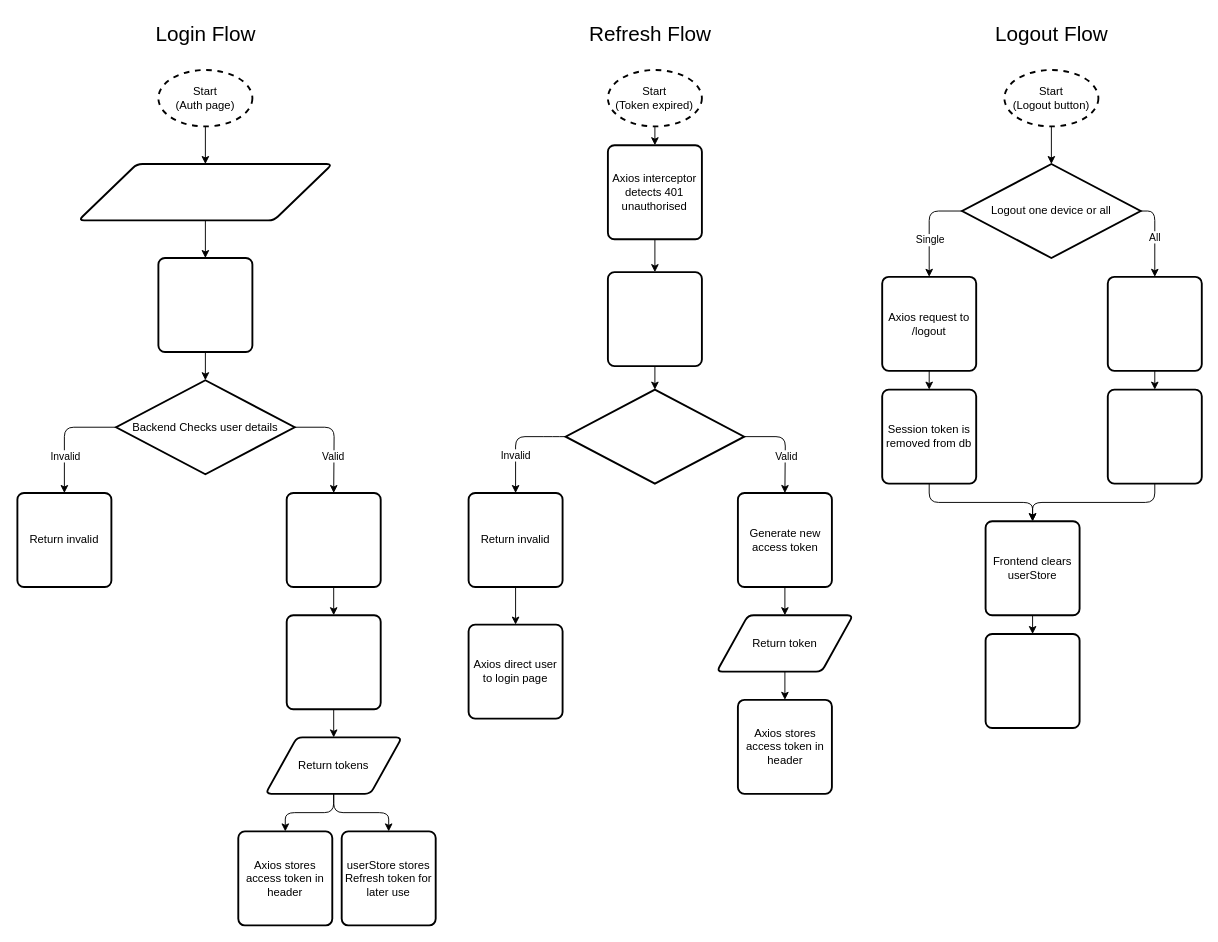
Image size: 1218x942. Some labels were removed from this diagram. The centre of each missing label's shape, as x and y in pixels:
"All session tokens are removed from db" belongs at (x=1154, y=436).
"Axios request to /login" belongs at (x=205, y=304).
"Axios request to /logout-all" belongs at (x=1154, y=323).
"Axios request to /refresh" belongs at (x=654, y=319).
"Backend validates refresh token" belongs at (x=654, y=436).
"Generate Short lived JWT and Refresh token" belongs at (x=333, y=540).
"redirect to /login" belongs at (x=1032, y=680).
"Save refresh token and device info to db" belongs at (x=333, y=662).
"User Enters credentials frontend" belongs at (x=205, y=192).
